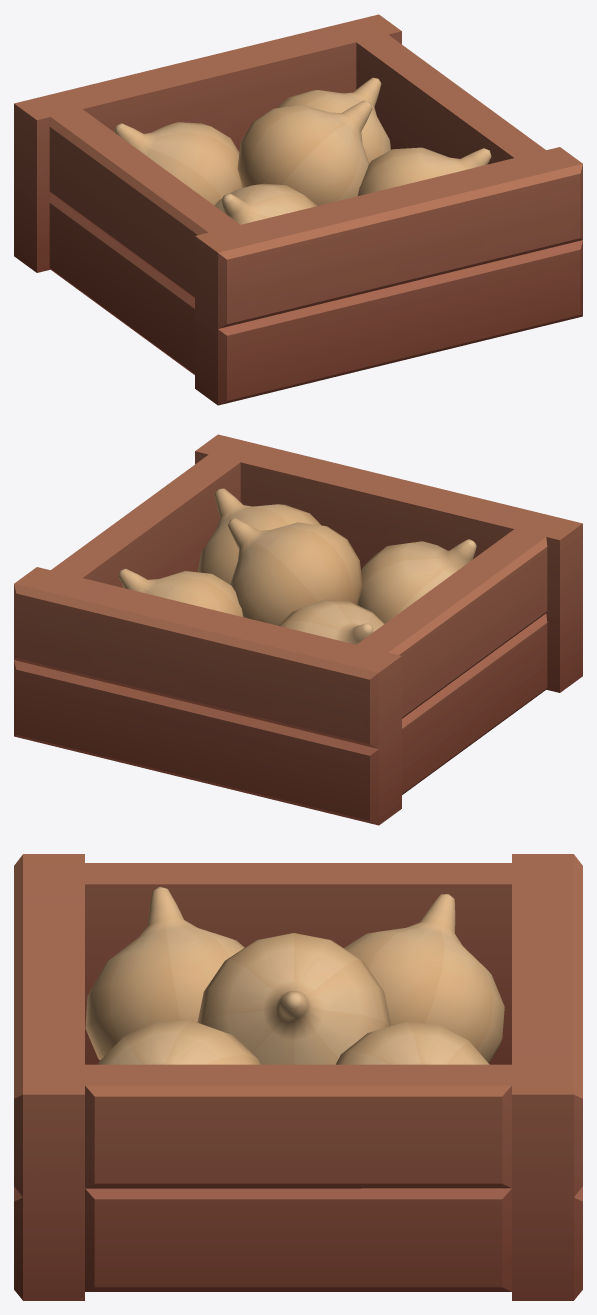
The model's file is crate_onions.glb.
The picture shows the model from 3 angles, top to bottom: view 1: azimuth 30°, elevation 25°; view 2: azimuth 150°, elevation 25°; view 3: azimuth 270°, elevation 25°; orthographic projection. The views are drawn at different scales.
Visible parts, largest first — view 1: crate_onions; view 2: crate_onions; view 3: crate_onions.
Boxes of the visible parts, left/top/right/bottom form: crate_onions: left=14, top=14, right=582, bottom=405; crate_onions: left=14, top=434, right=582, bottom=825; crate_onions: left=14, top=854, right=582, bottom=1300.
Size of the model in its own units: 2 by 0.9234 by 2.
Materials: 1 (1 with a texture image).
